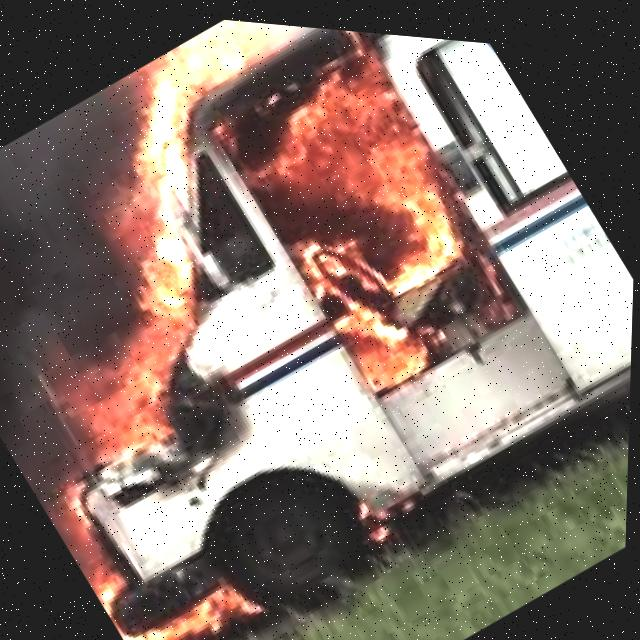Fire: (0, 0, 611, 640)
Smoke: (0, 45, 349, 547)
